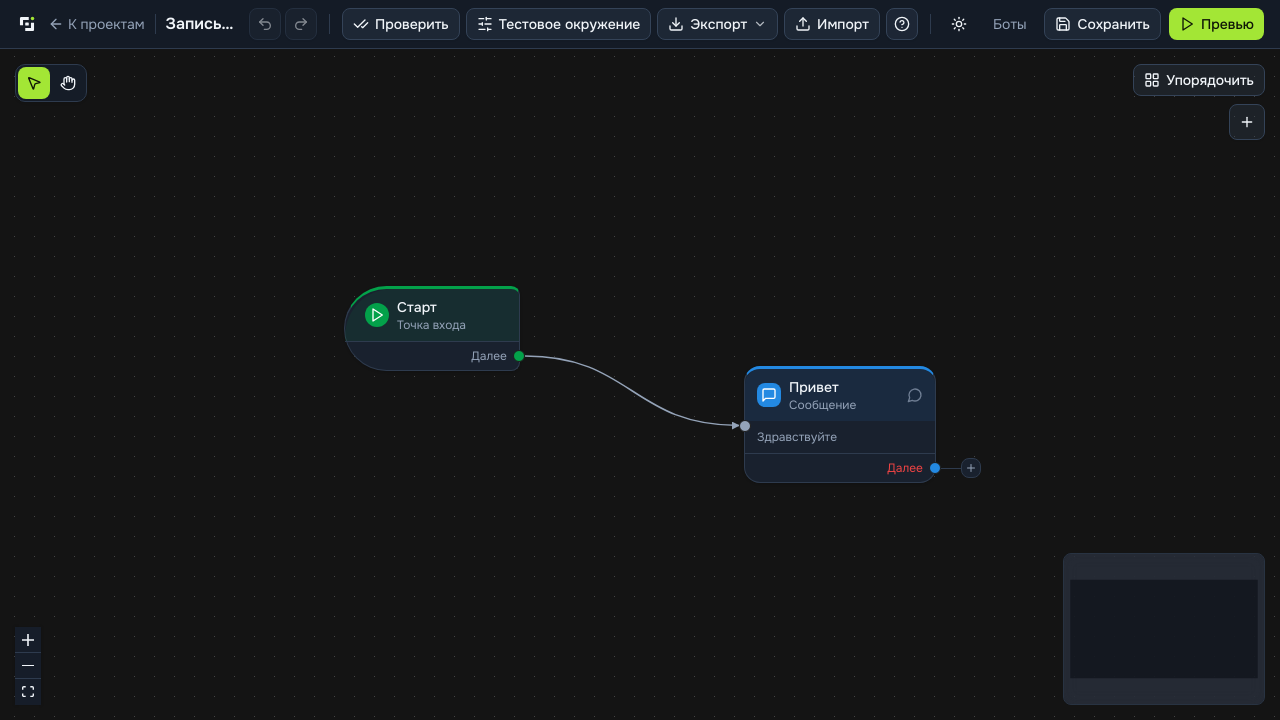
EditorPage — проверка сценария › при несохранённых изменениях «Проверить» сначала сохраняет сценарий, затем проверяет
Click the text "Привет": (814, 387) [789,378,839,396]
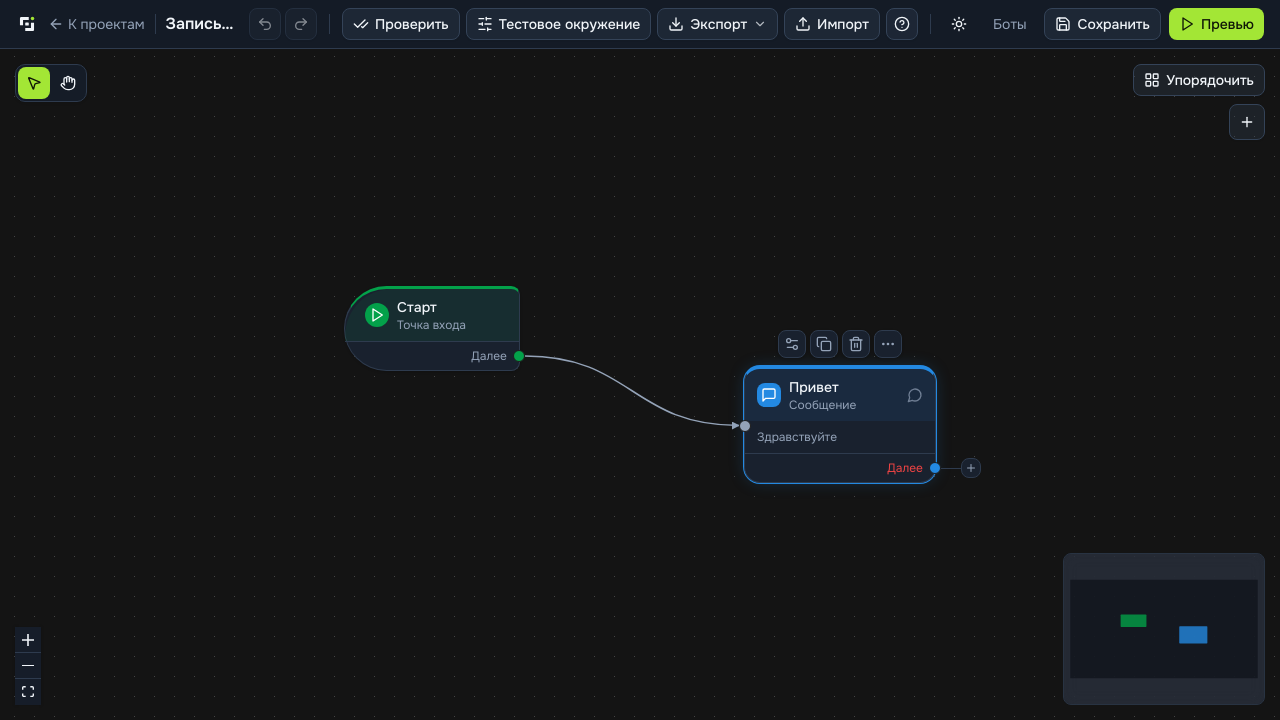
Click the button named "Дублировать": (824, 344) [810,330,838,358]
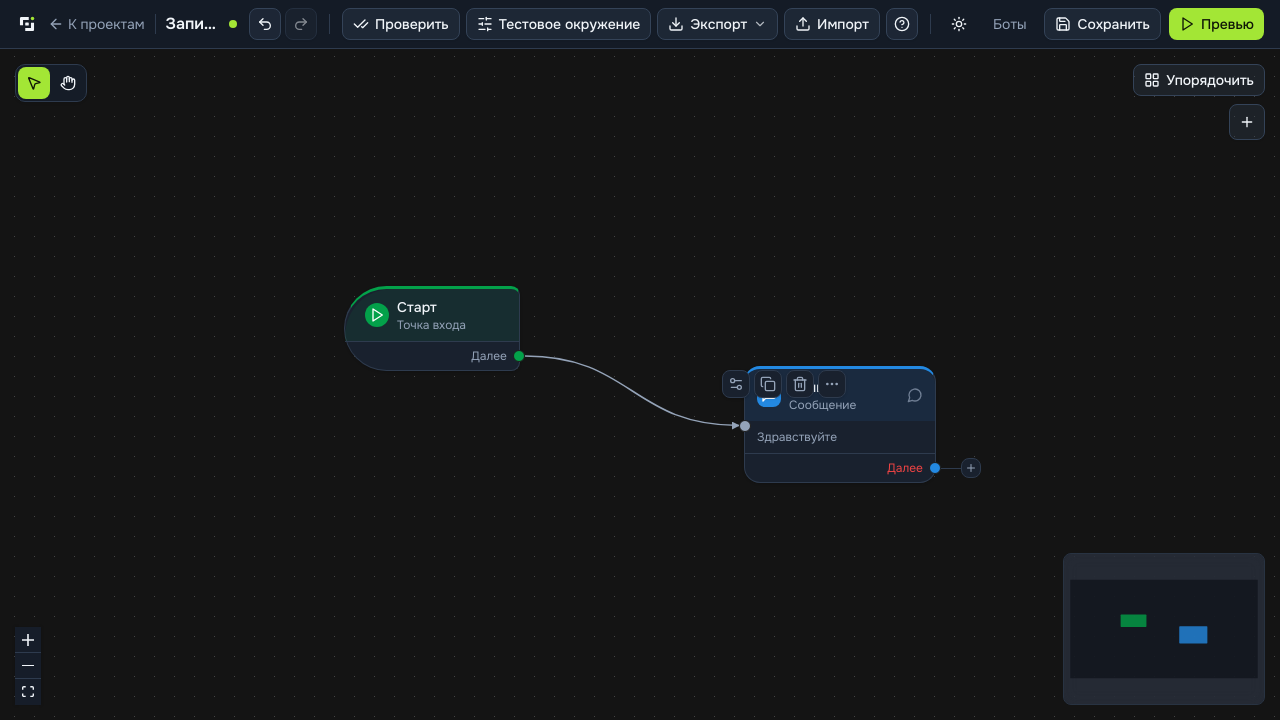
Click the button "Проверить": (401, 24) [342,8,460,40]
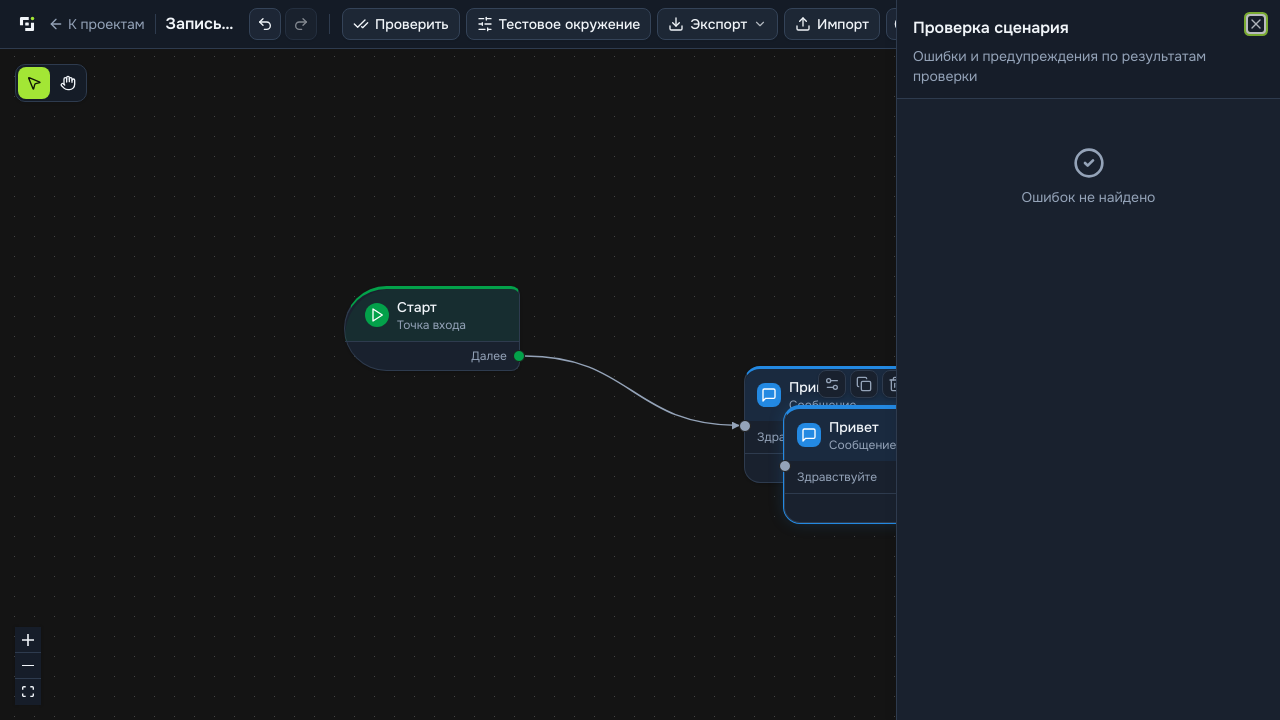
expect the text "Ошибок не найдено" is shown: met, box [1022,187,1155,207]
